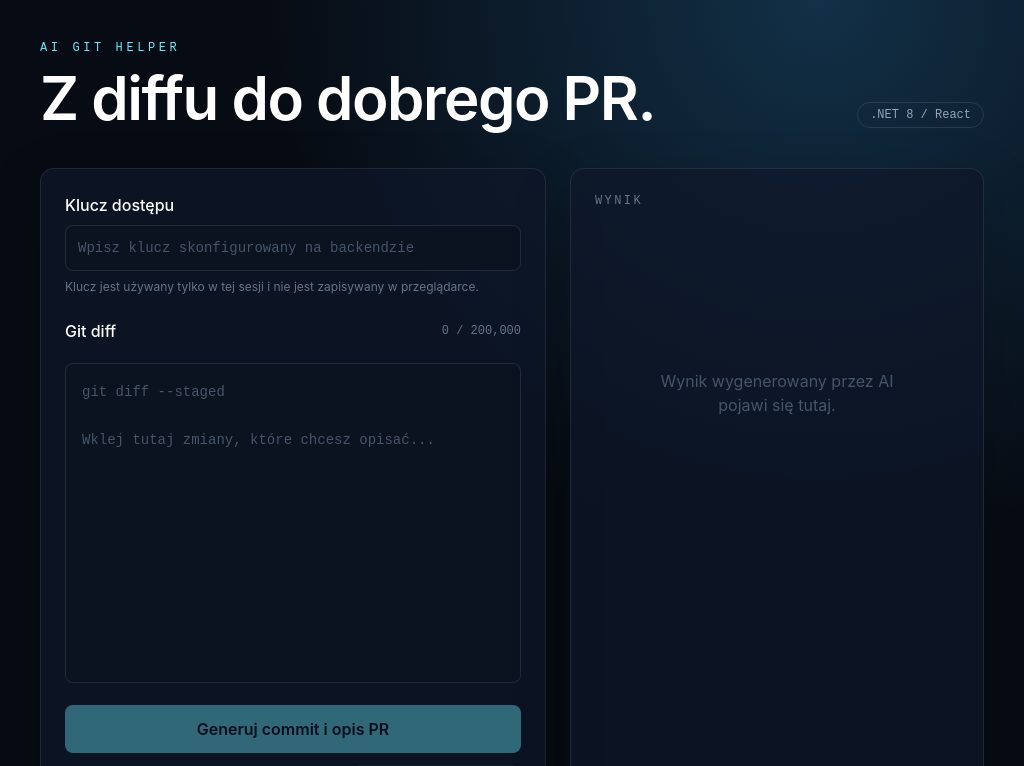
Test case: App › shows an authentication error for an invalid access key
Type "wrong-key" into the password field labelled "Klucz dostępu".
click(293, 248); type("wrong-key")  # box [65,225,521,271]
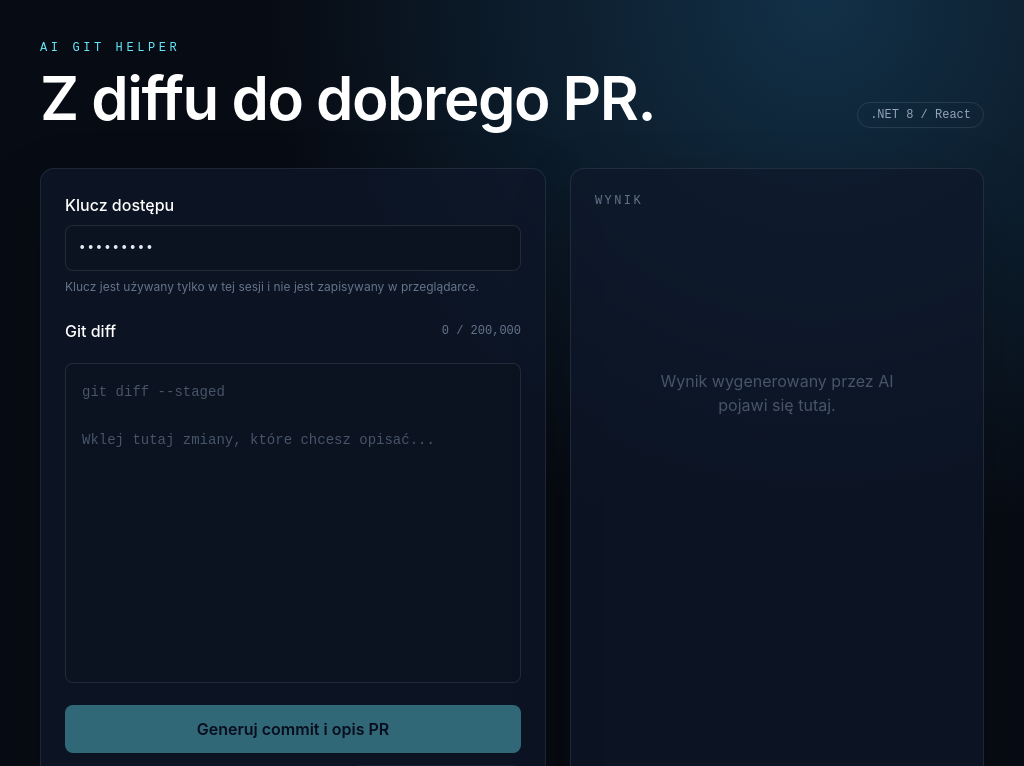
Type "diff" into the text box labelled "Git diff".
click(293, 523); type("diff")  # box [65,363,521,683]
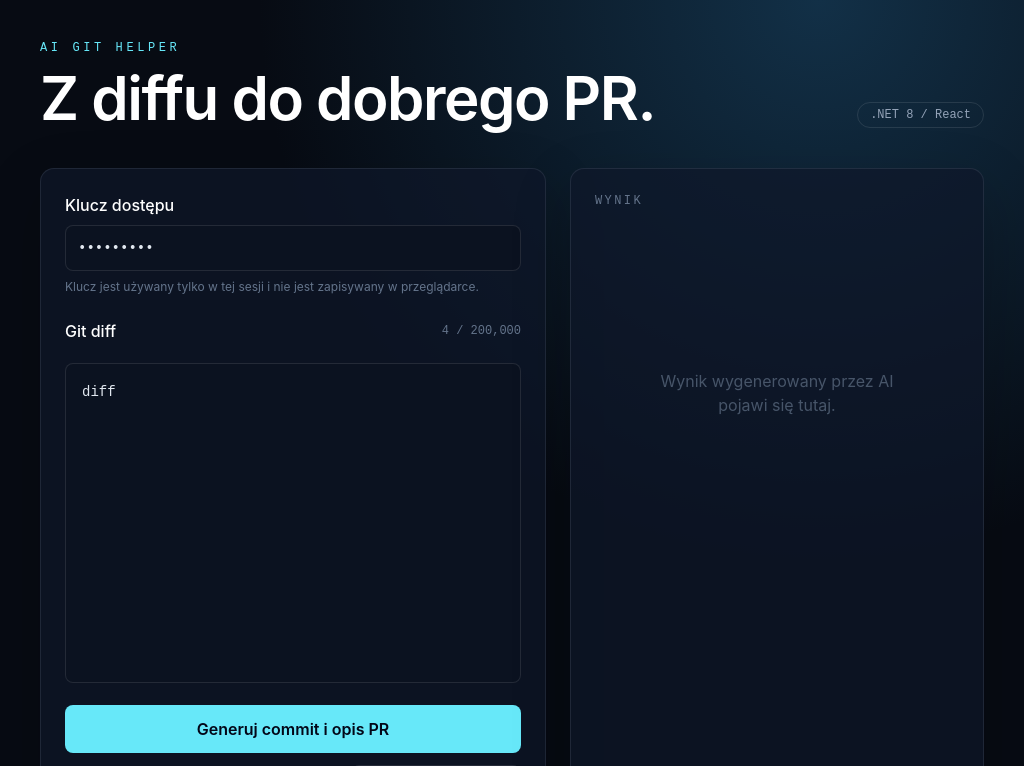
Click the button "Generuj commit i opis PR".
click(293, 729)  # box [65,705,521,753]
(page scrolled)
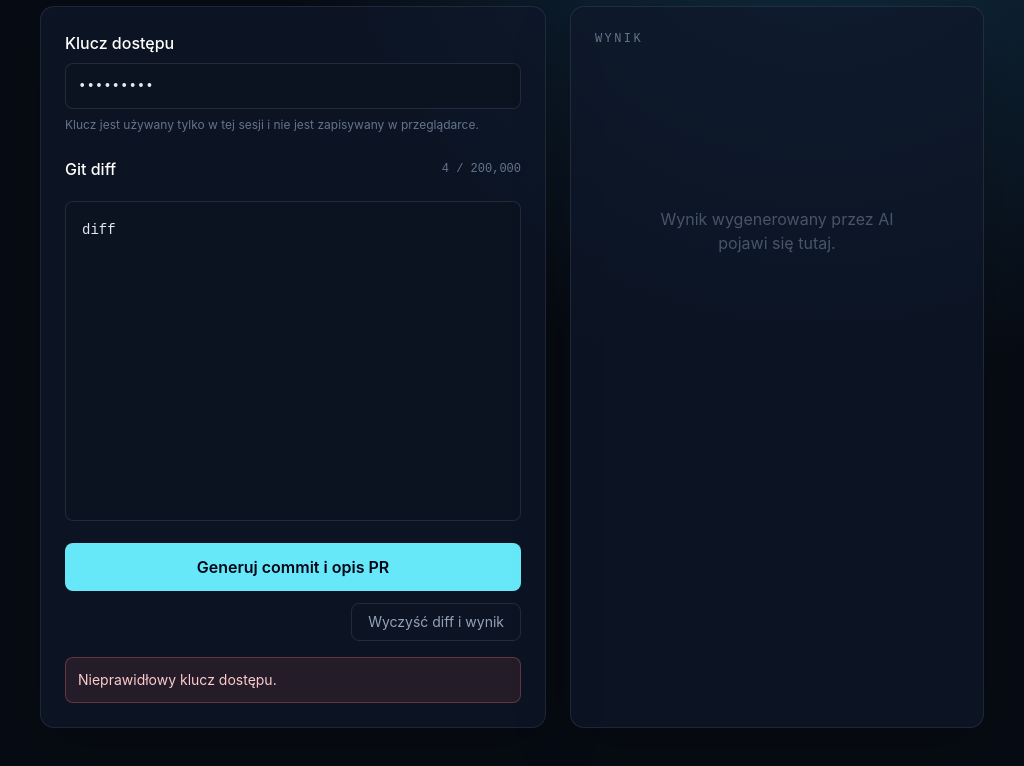
Expected: the message "Nieprawidłowy klucz dostępu." is shown, [65,657,521,703]
